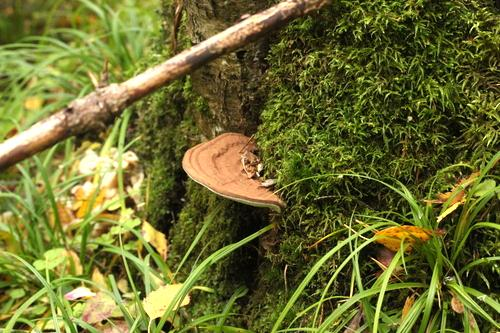Ganoderma - Fruit Body: (181, 130, 285, 219)
